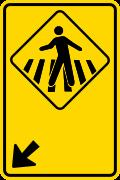Pedestrian Crossing: (11, 9, 111, 112)
